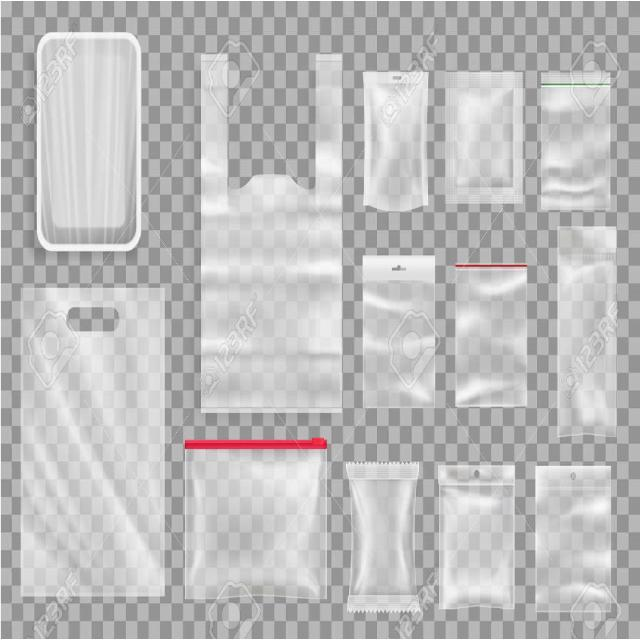Bolsa-de-plastico: (344, 464, 421, 604)
